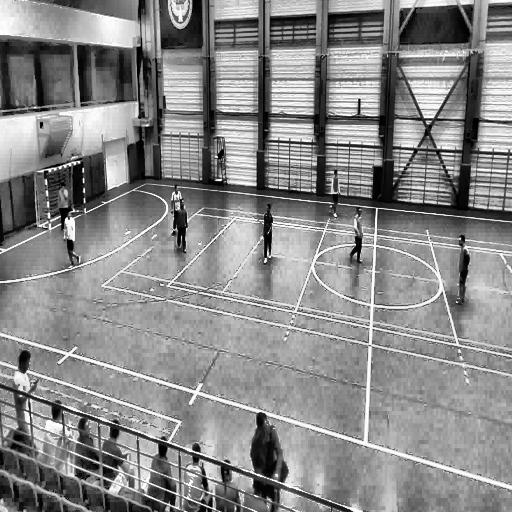player: (249, 412, 289, 510), (454, 234, 469, 307), (168, 183, 184, 239), (349, 207, 364, 264), (66, 206, 80, 267), (56, 180, 70, 234), (174, 199, 188, 252), (263, 201, 274, 263), (331, 170, 339, 217)
